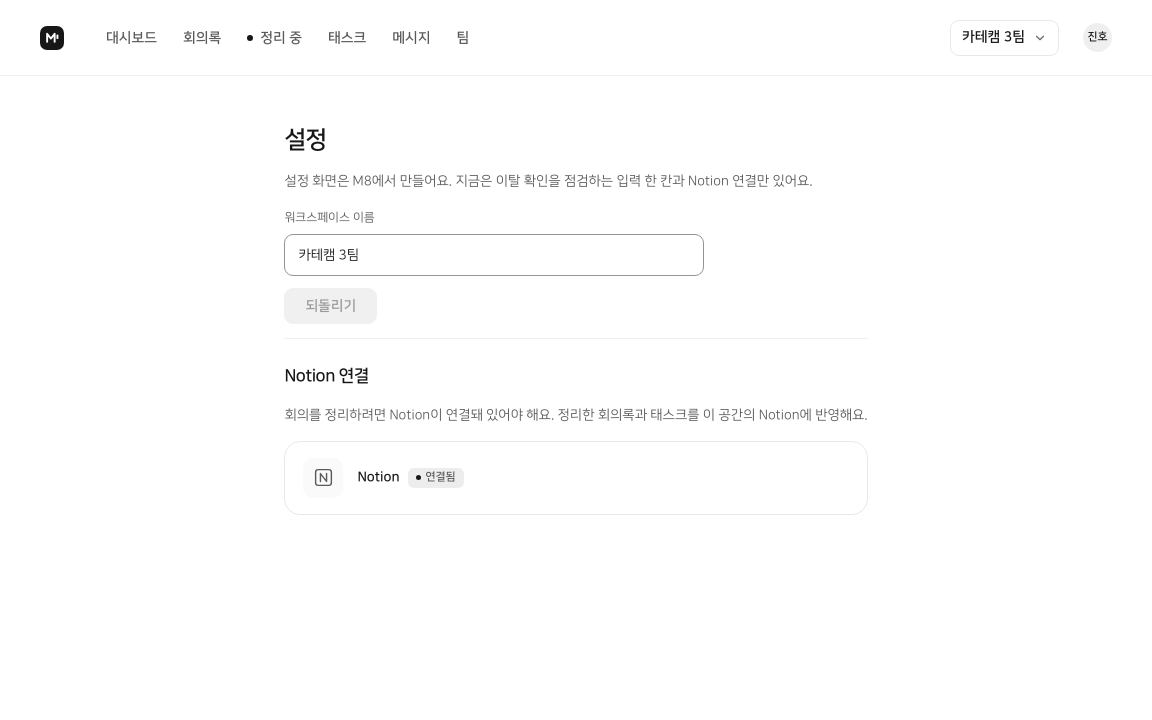
Scenario: 워크스페이스 전환 (U4-5) › 저장하지 않은 변경이 있으면 묻는다 — 취소하면 그대로, 이동하면 새 공간 대시보드
This screenshot has width=1152, height=720.
Step 1. Type " 새 이름" into the field labelled "워크스페이스 이름" → (494, 255), box [284,234,704,276]
Step 2. Click the button with aria-label "워크스페이스 바꾸기" → (1004, 38), box [950,20,1059,56]
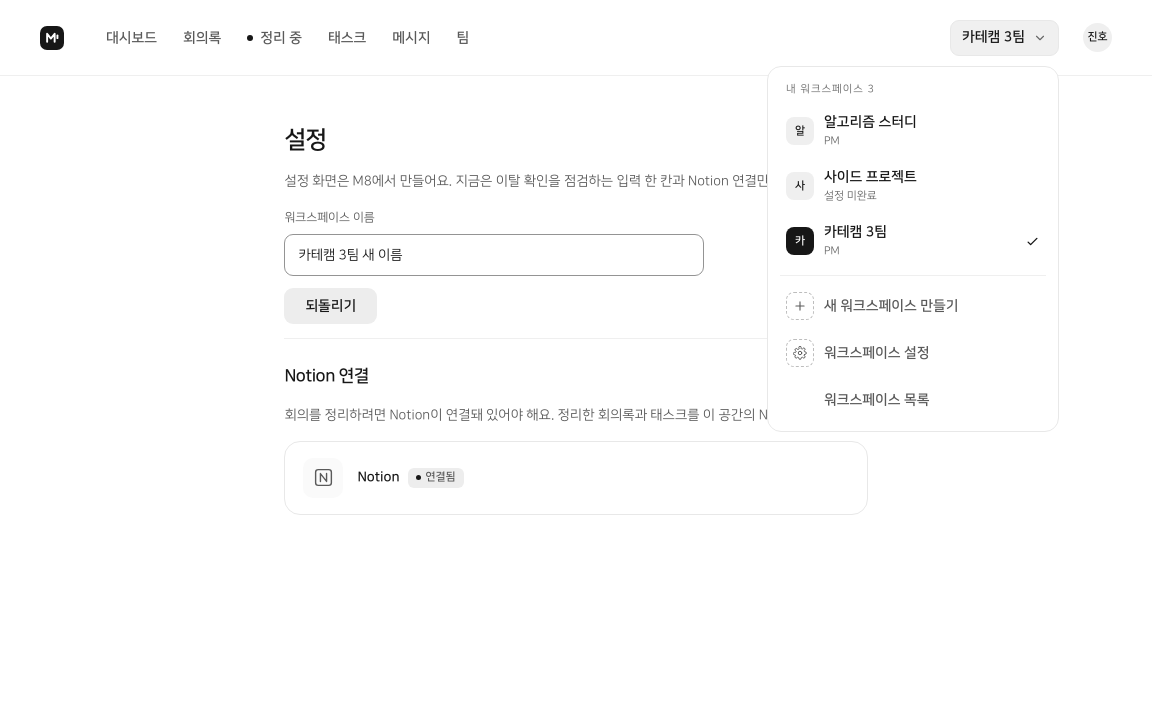
Step 3. Click the menu item "알 알고리즘 스터디 PM" → (851, 131), box [786,114,917,147]
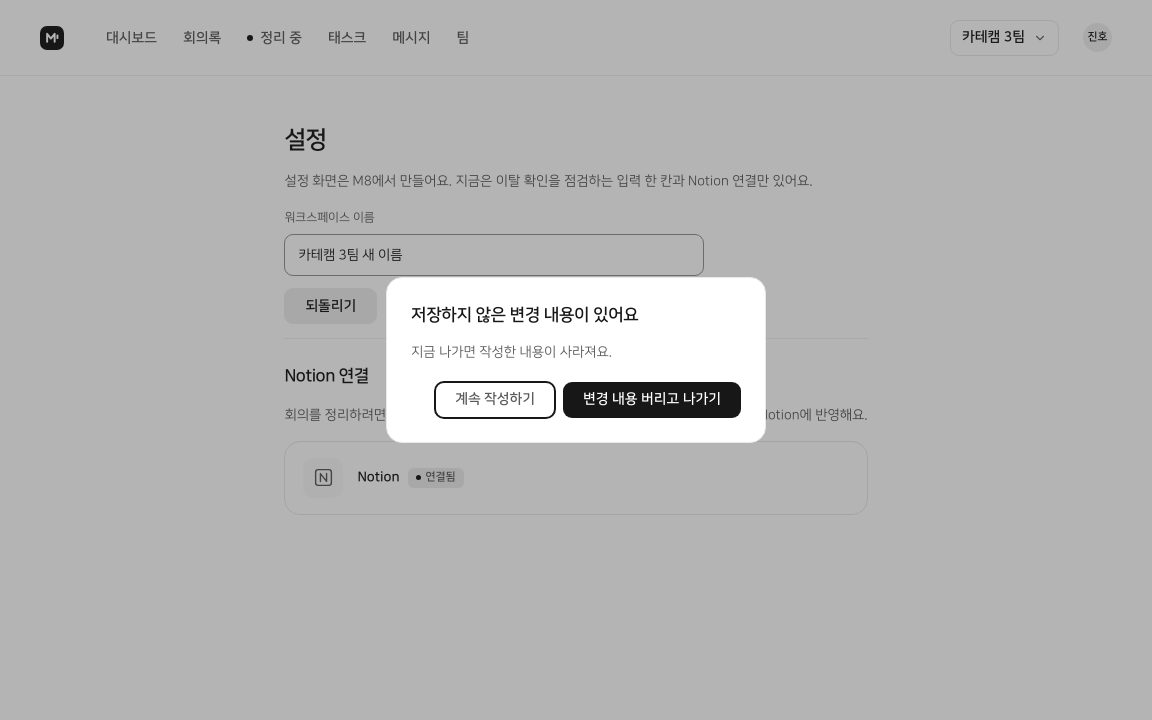
Result: the dialog "저장하지 않은 변경 내용이 있어요" is shown at [386,277,766,443]
Step 4. Click the button "계속 작성하기" → (495, 400), box [435,382,555,418]
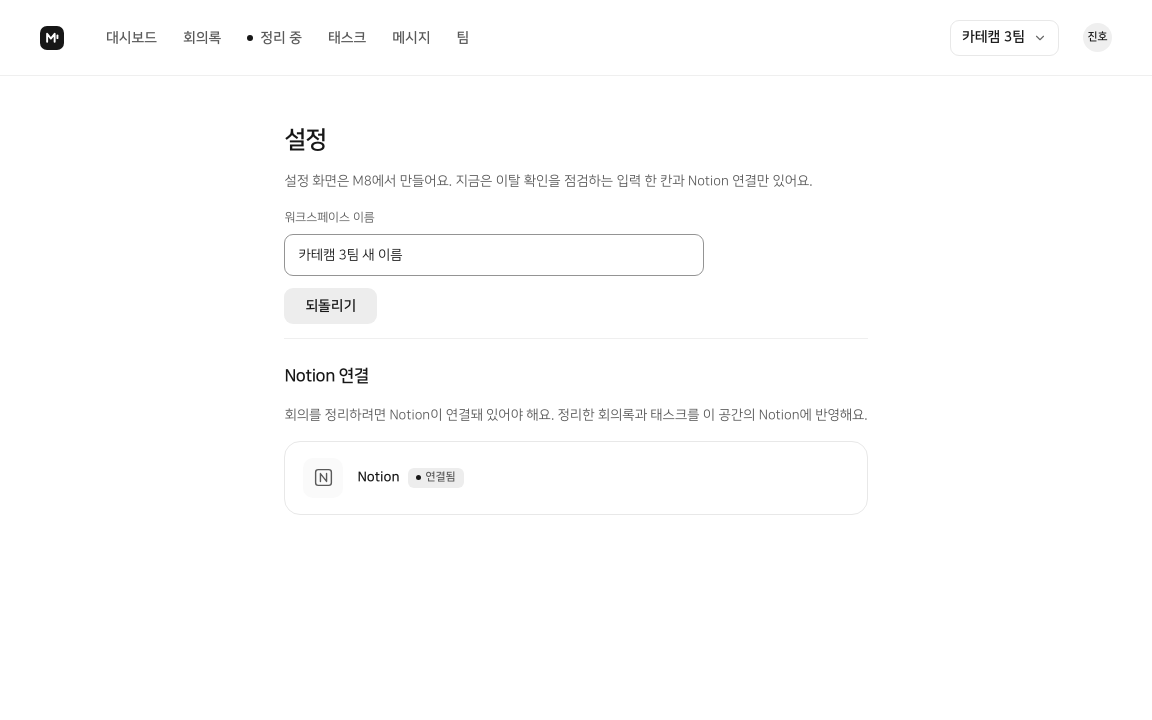
Expected: the heading "설정" is shown, [284,127,326,153]
Result: the field labelled "워크스페이스 이름" holds "카테캠 3팀 새 이름" at [284,234,704,276]
Result: the dialog is gone
Step 5. Click the button with aria-label "워크스페이스 바꾸기" → (1004, 38), box [950,20,1059,56]
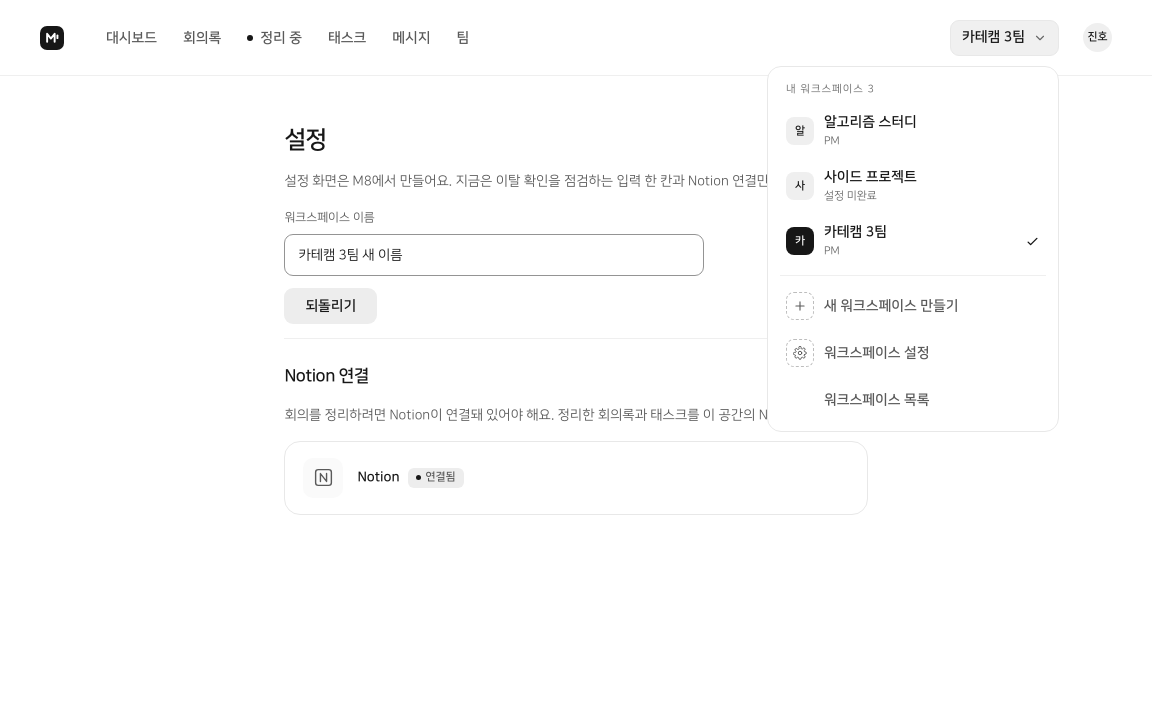
Step 6. Click the menu item "알 알고리즘 스터디 PM" → (851, 131), box [786,114,917,147]
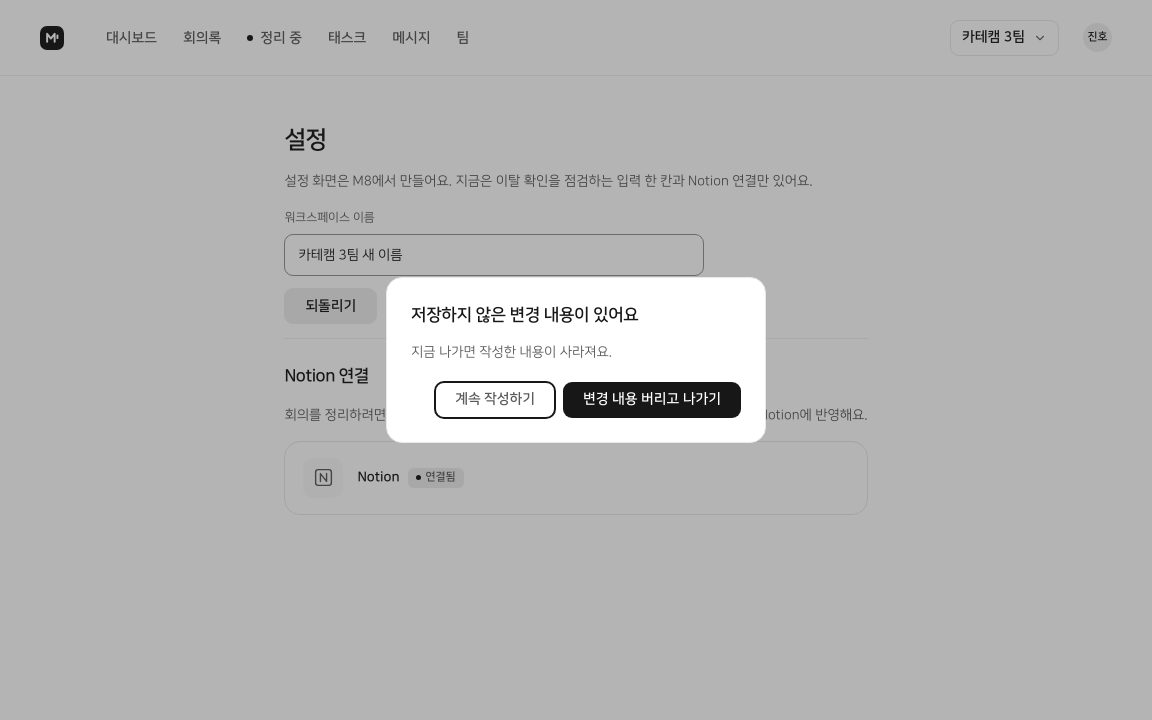
Step 7. Click the button "변경 내용 버리고 나가기" → (652, 400), box [563,382,741,418]
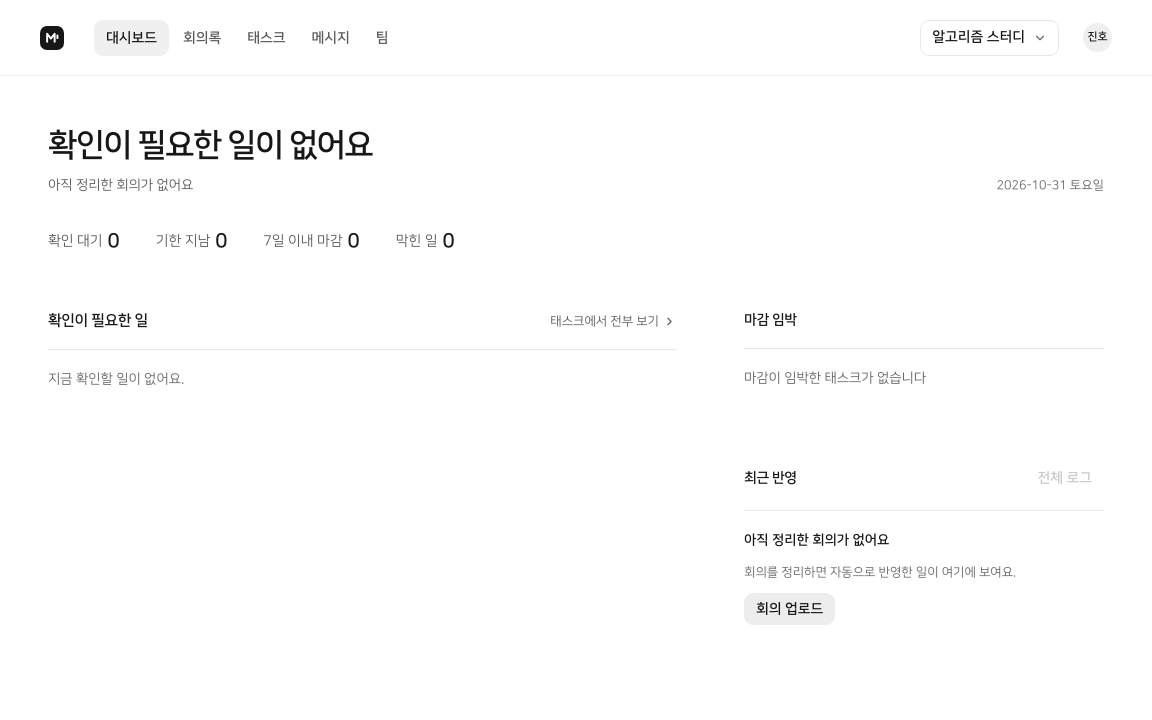
Result: the button with aria-label "워크스페이스 바꾸기" reads "알고리즘 스터디" at [920,20,1059,56]
